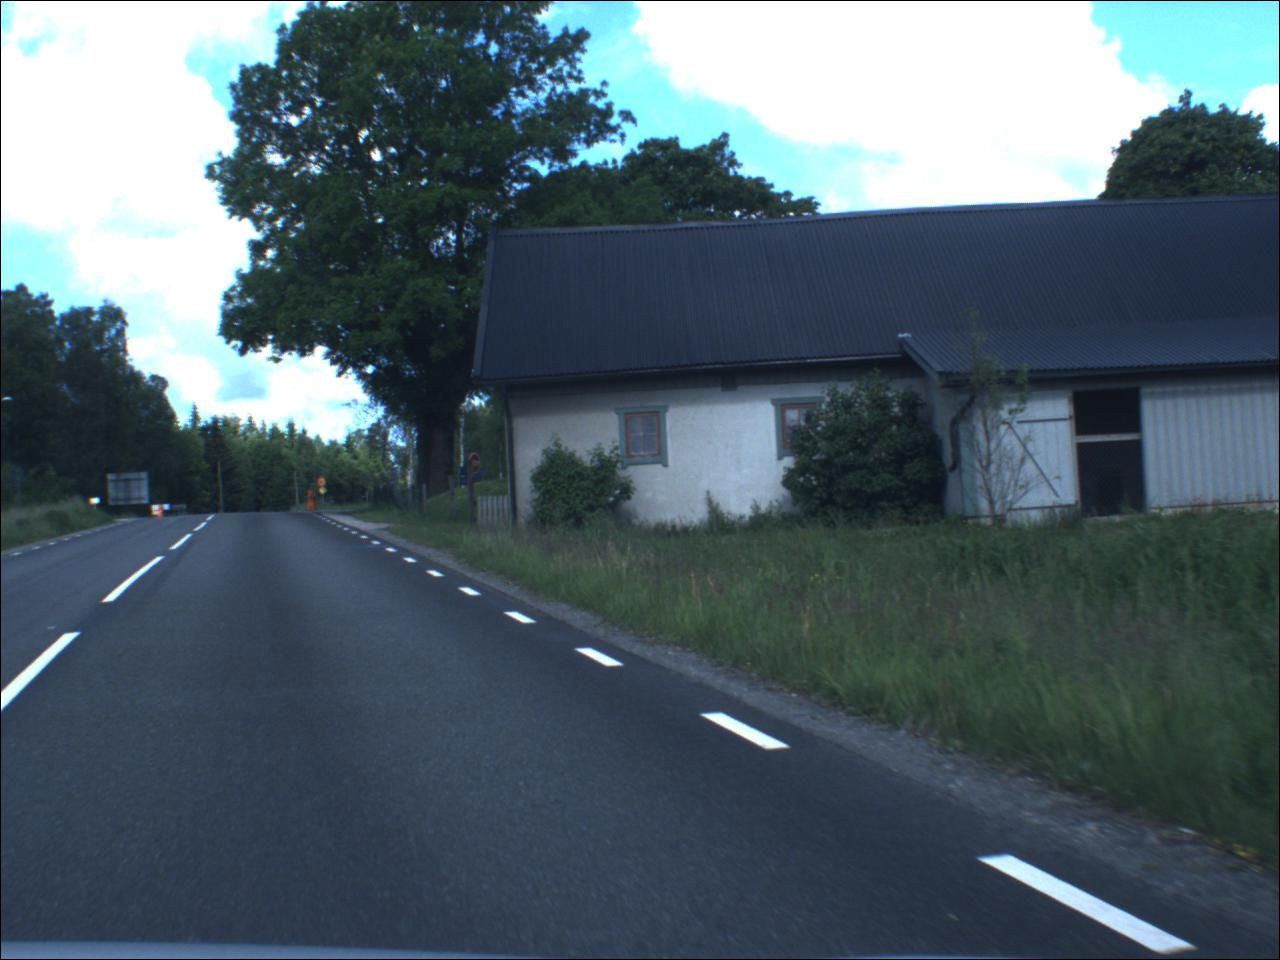80_SIGN: (318, 479, 330, 490)
PRIORITY_ROAD: (321, 489, 330, 498)
STOP: (469, 452, 485, 478)
